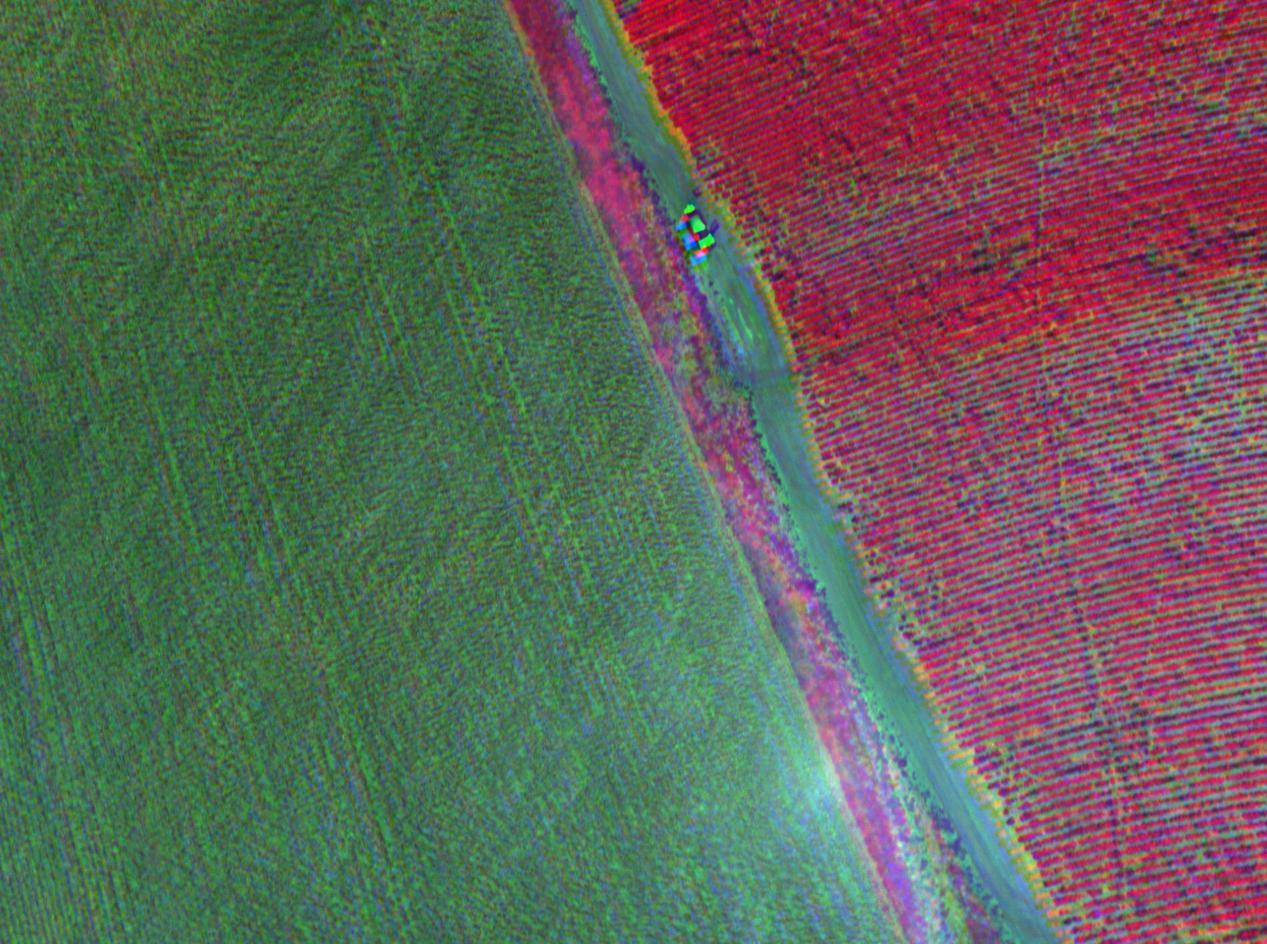dc: (1098, 432, 1199, 513), (804, 381, 883, 448), (874, 575, 944, 644), (1156, 882, 1224, 944), (1178, 295, 1232, 357)
